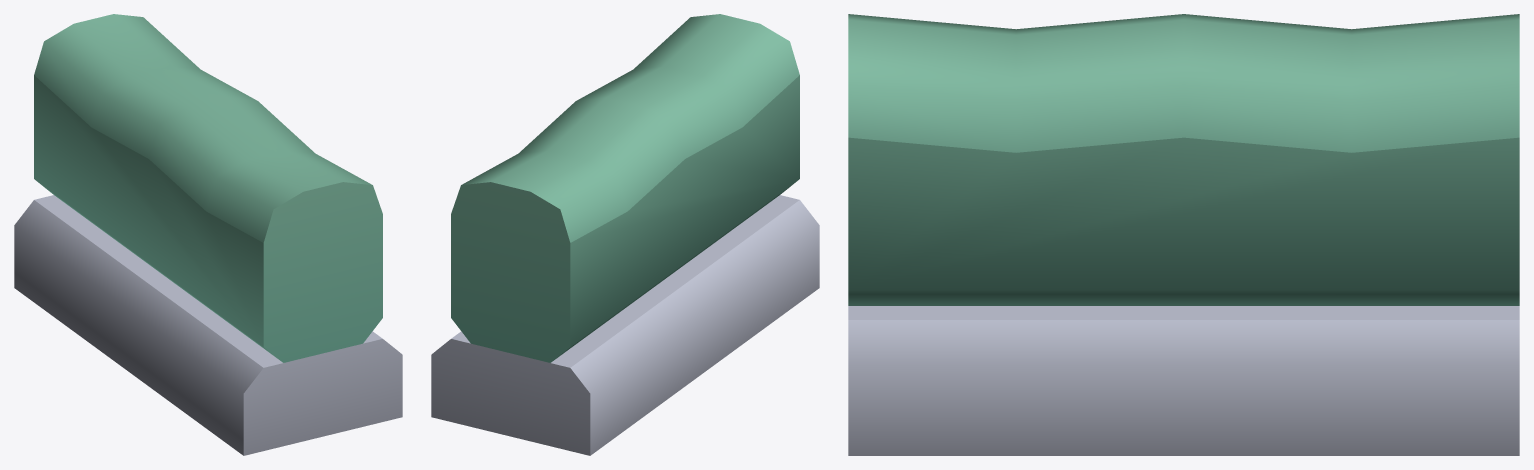
Rendered from hedge-large.glb.
The picture shows the model from 3 angles, left to right: view 1: azimuth 30°, elevation 25°; view 2: azimuth 150°, elevation 25°; view 3: azimuth 270°, elevation 25°; orthographic projection. The views are drawn at different scales.
Parts seen in each view (by area): view 1: hedge-large; view 2: hedge-large; view 3: hedge-large.
Boxes of the visible parts, x1,y1,x2,y2 form: hedge-large: (14,14,402,455); hedge-large: (431,14,819,455); hedge-large: (848,14,1519,455).
Size of the model in its own units: 0.4 by 0.6 by 1.
